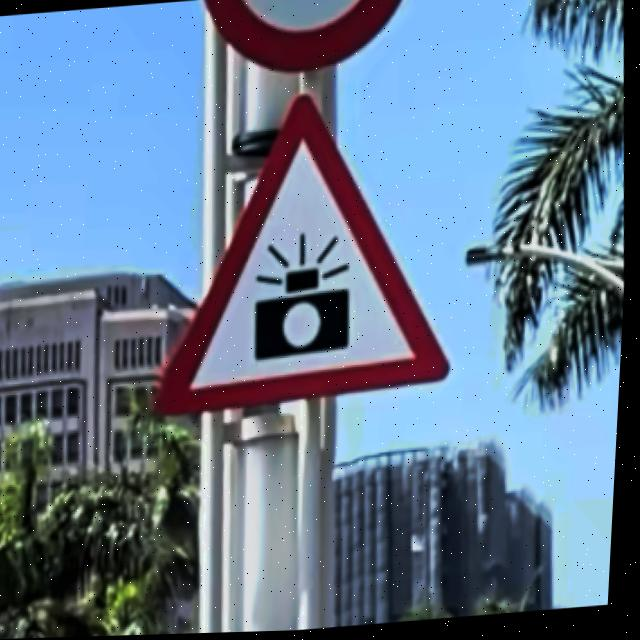speedcamera: (157, 98, 453, 417)
